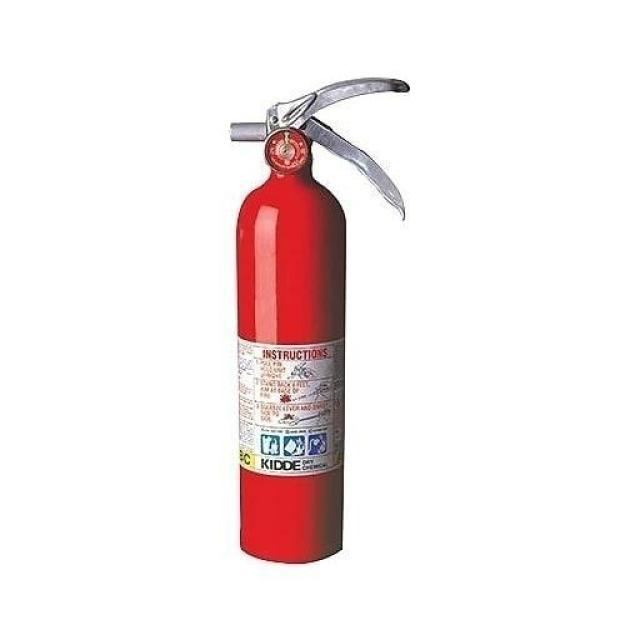fire_extinguisher: (226, 72, 413, 568)
